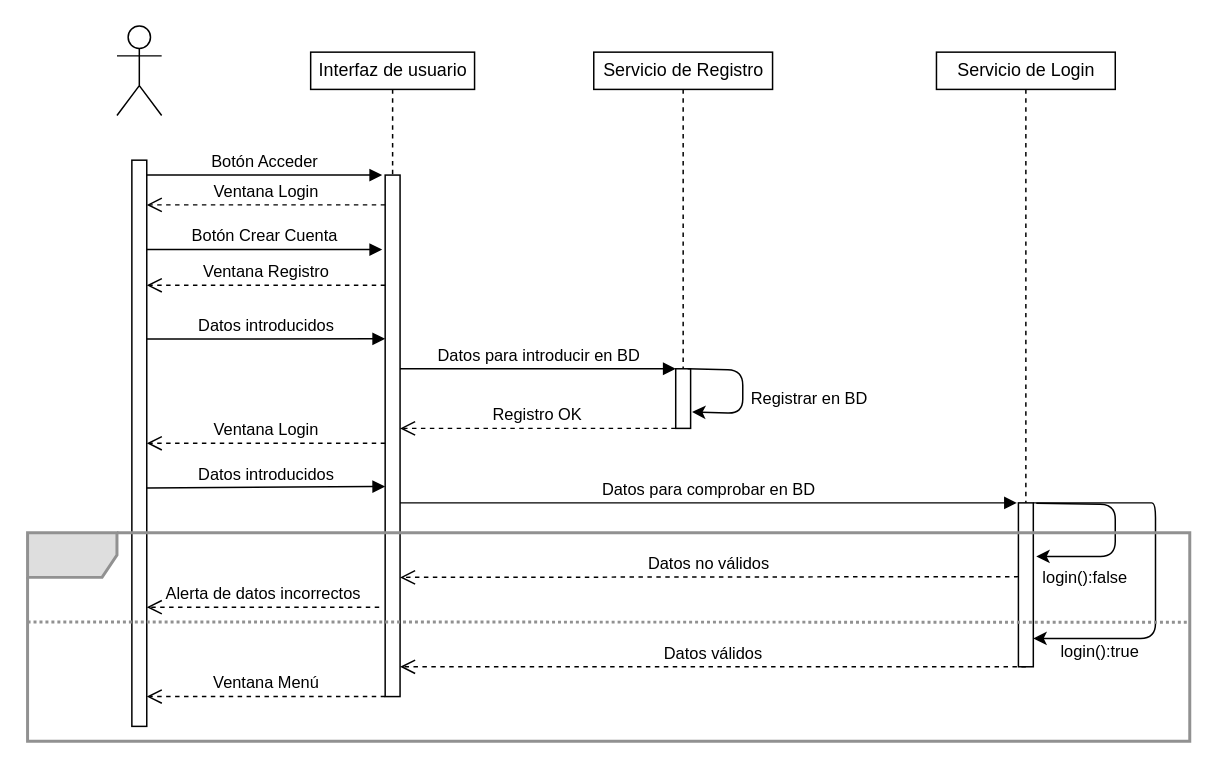
This 1217x769 diagram has some shape labels left out. The shapes that lost their labels are listed below. From the top down, each one's centre as x and y in pixels, then its label:
[138,70]: Usuario
[608,636]: alt
